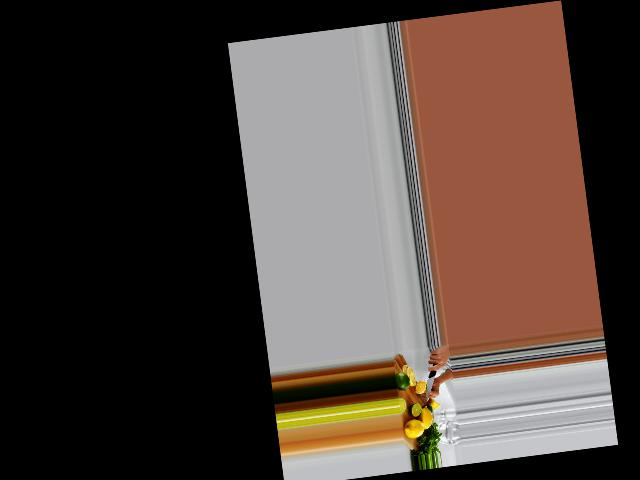lemon: (403, 416, 425, 442)
